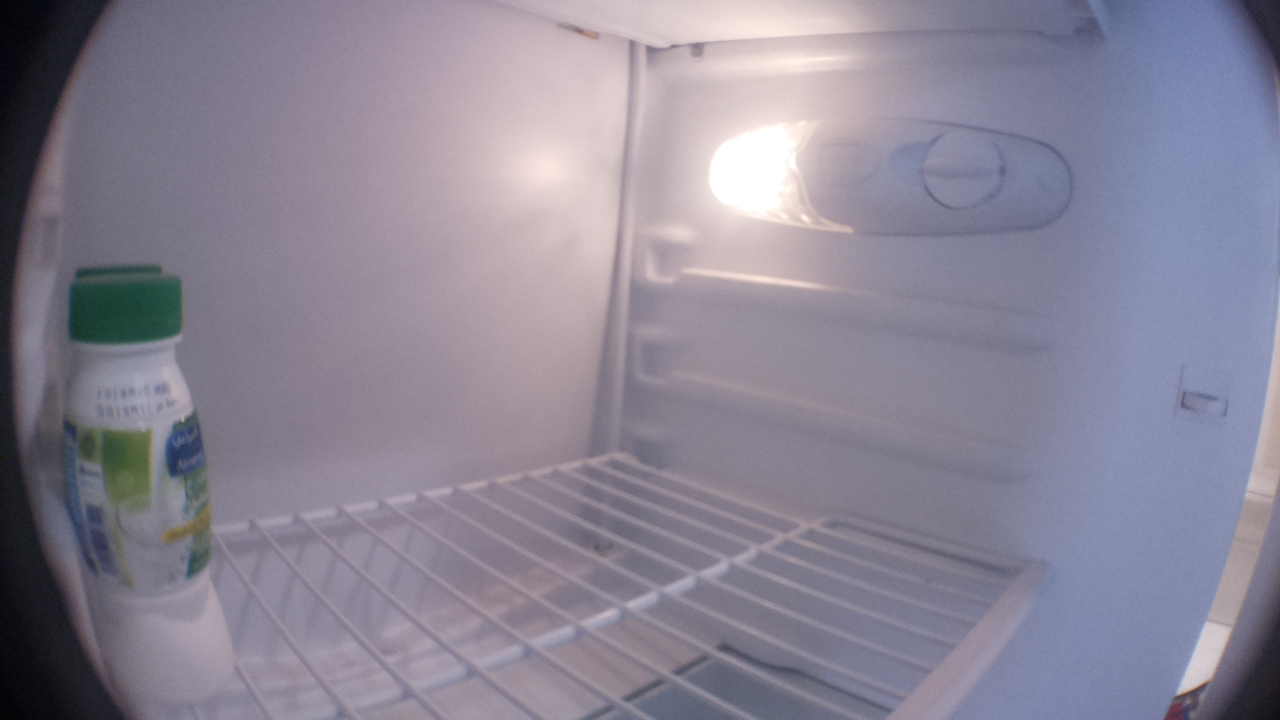laban: (62, 278, 239, 708)
